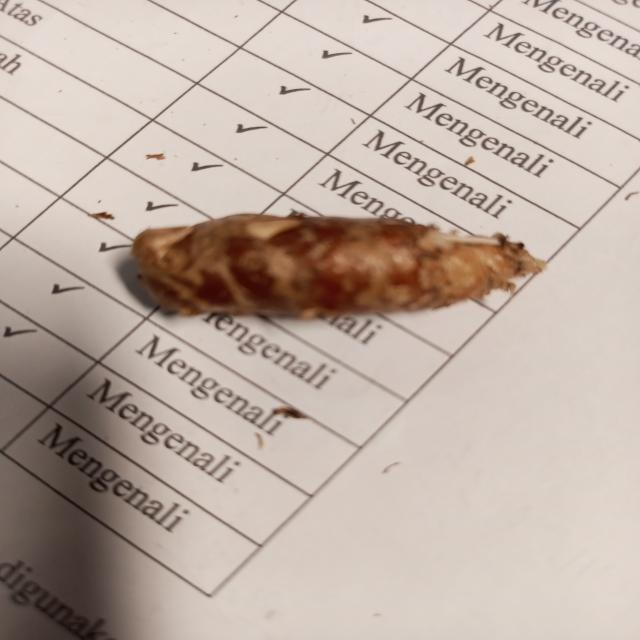ginger: (130, 215, 521, 312)
